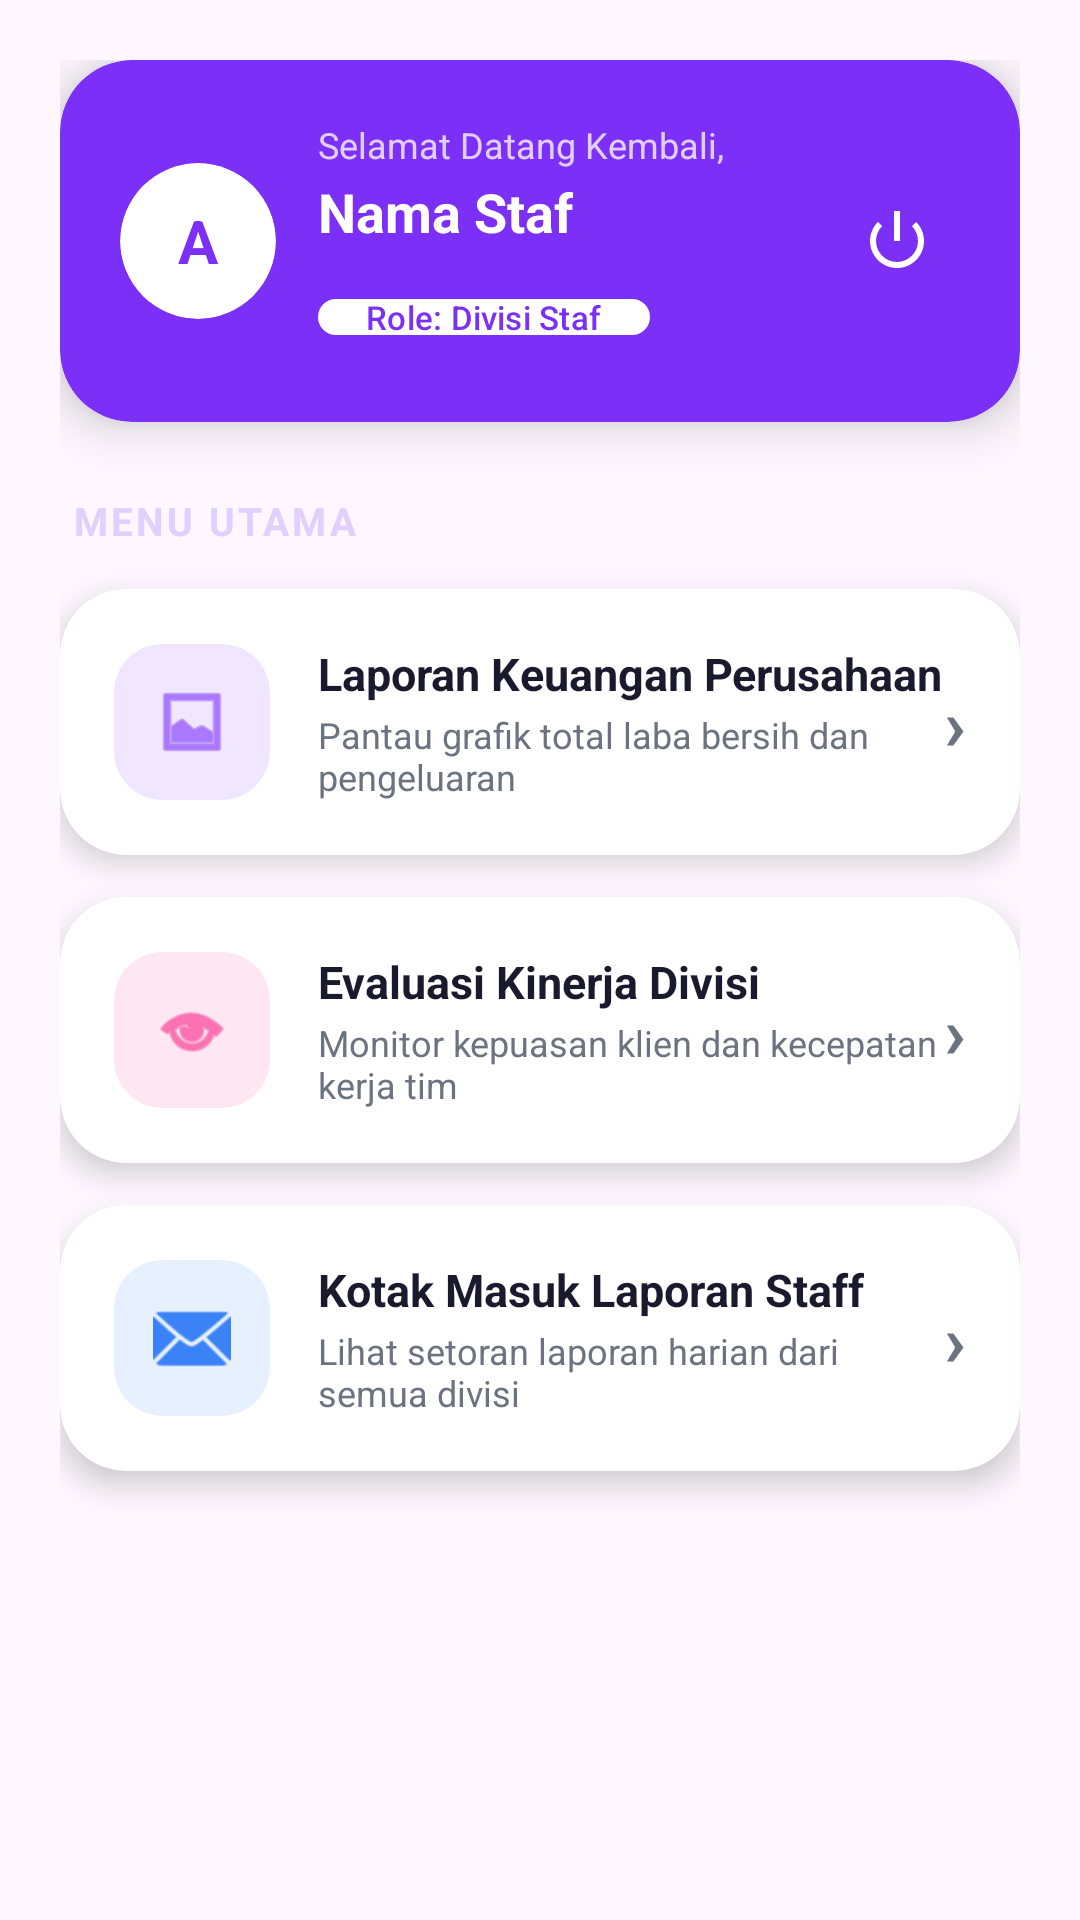

Named icons in this screenshot (1080 × 1920) and their bounding boxes, (x1, y1, x2, y2):
email: (153, 1311, 231, 1366)
gallery: (163, 693, 221, 751)
view: (160, 1012, 224, 1052)
